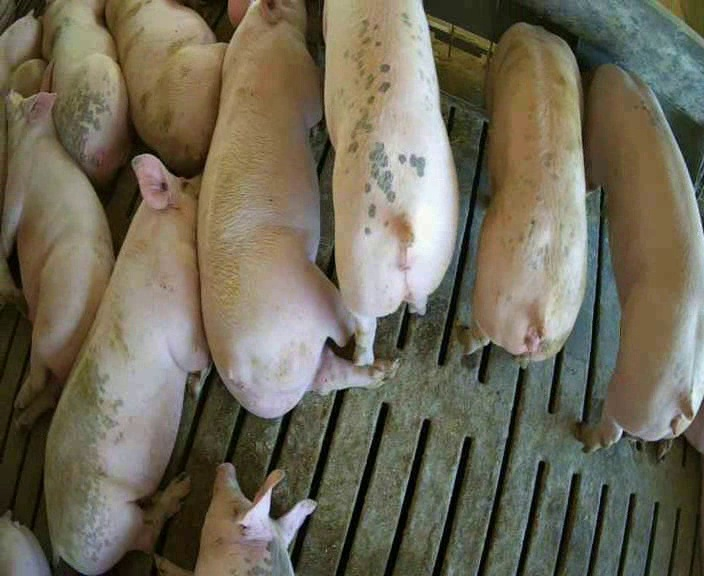pig: (198, 1, 398, 418), (46, 155, 211, 573), (324, 2, 456, 365), (584, 65, 703, 447), (1, 58, 113, 425), (465, 23, 586, 362), (106, 2, 225, 176), (152, 463, 316, 575), (42, 2, 128, 183)
